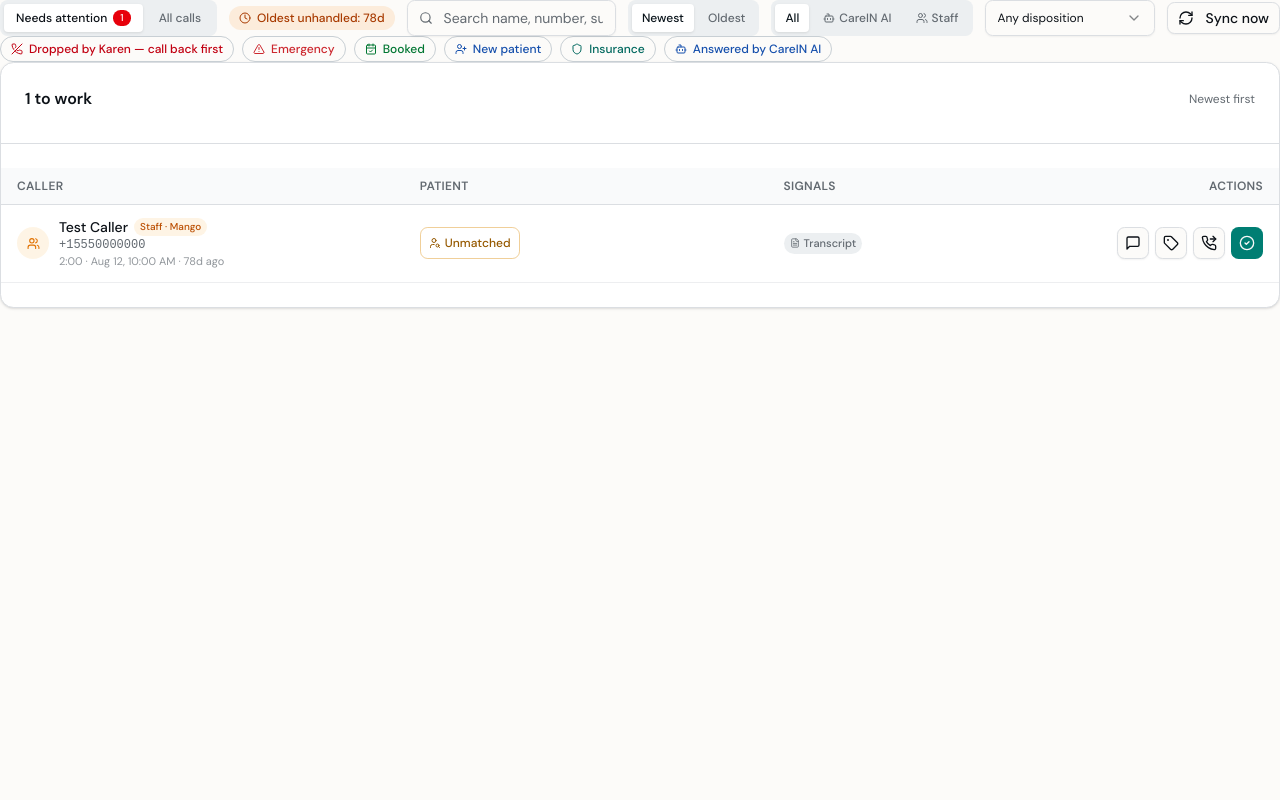
Test case: notes on a call › sends the text and shows the SERVER's stored note back
Click the button with test id "notes-action" at (1133, 243), box [1117,227,1149,259]
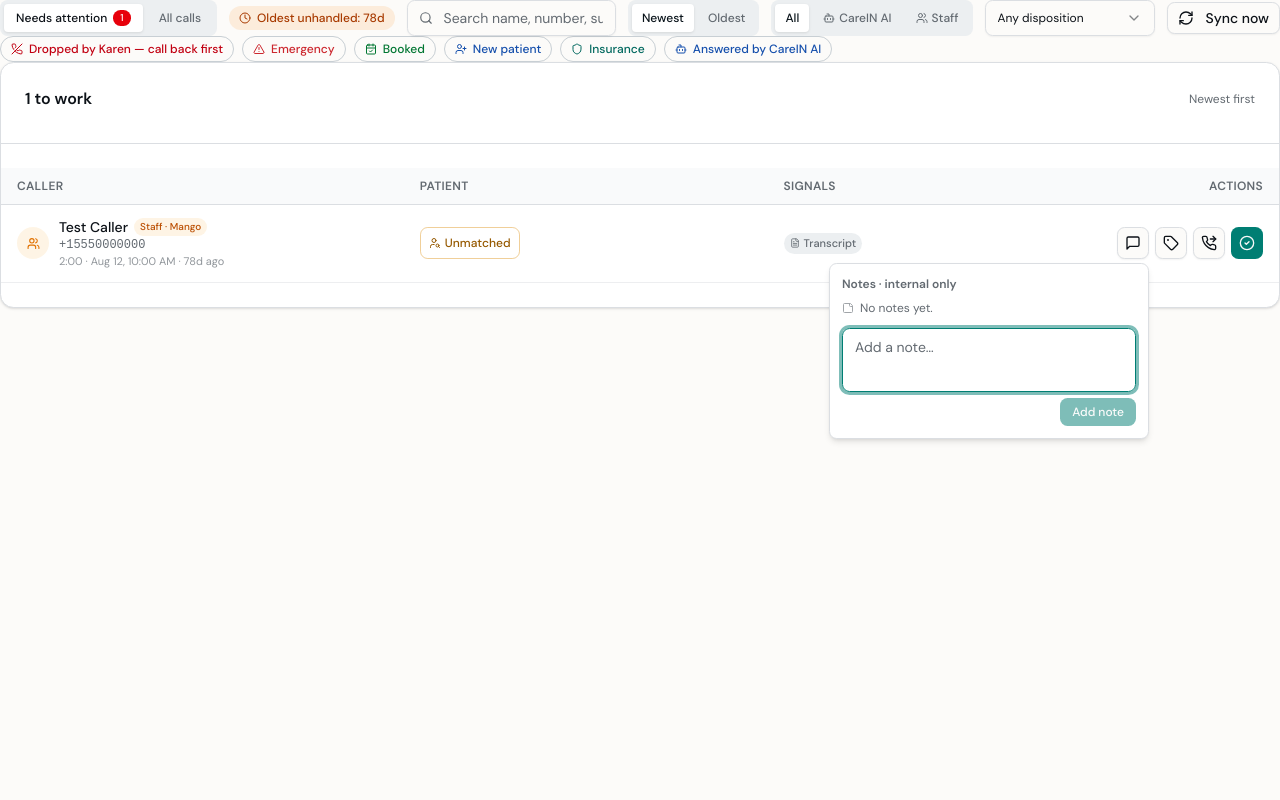
Type "  Pharmacy needs a callback  " into the text box labelled "Add a note" at (989, 360), box [842,328,1136,392]
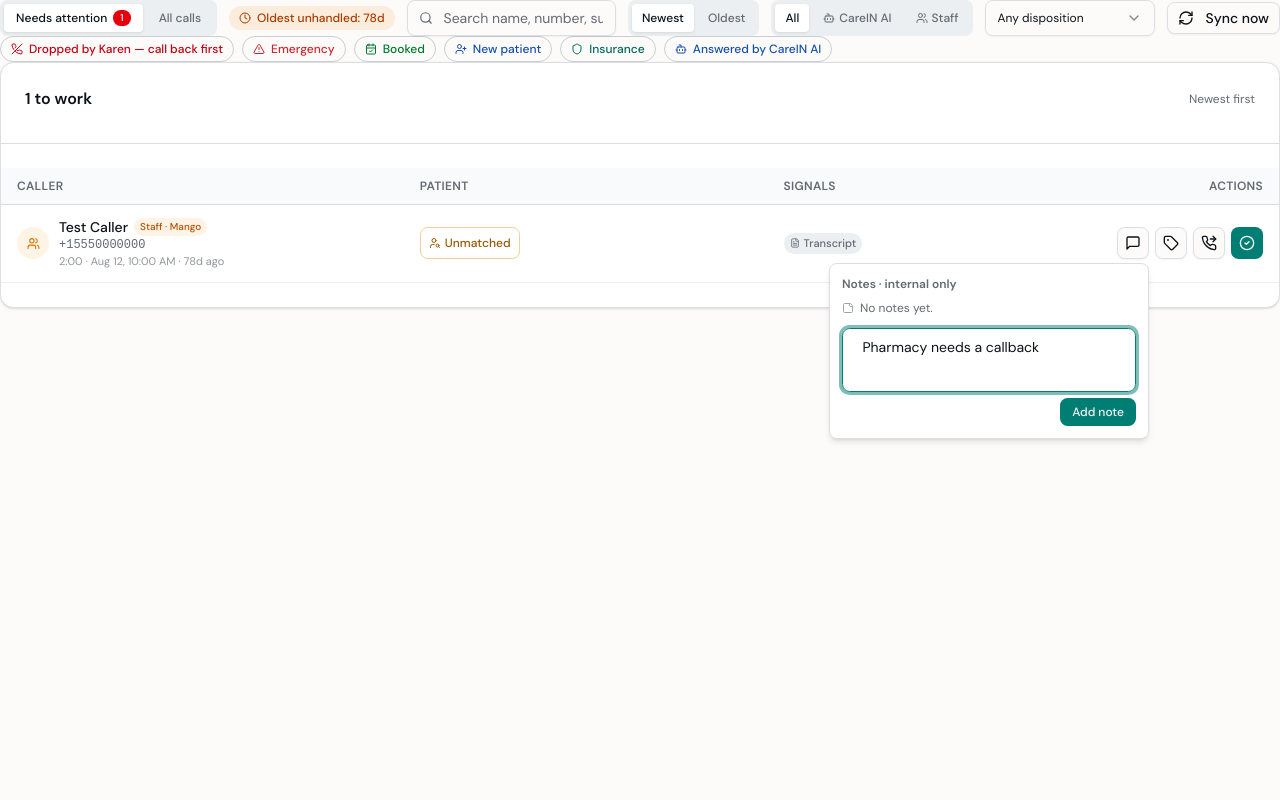
Click the button "Add note" at (1098, 412), box [1060,398,1136,426]
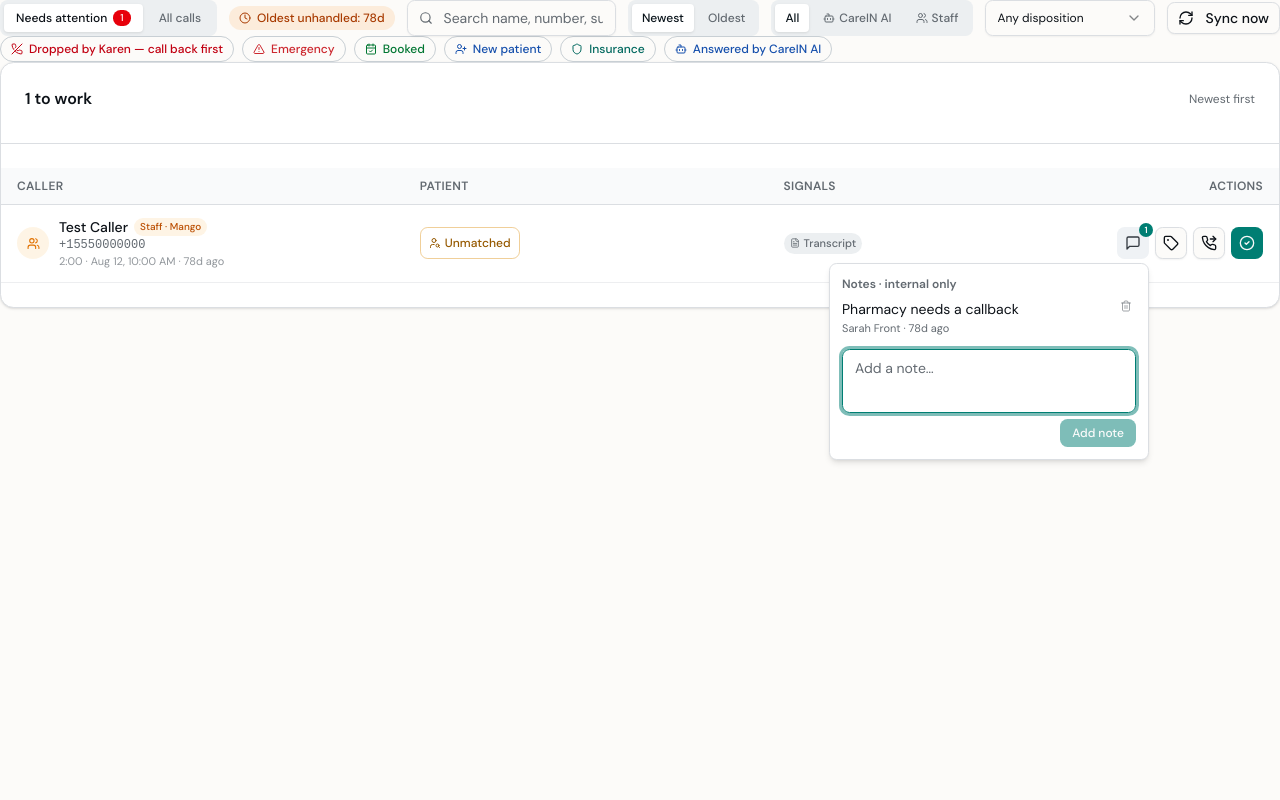
Expected: the text "Pharmacy needs a callback" is shown, [842,300,1019,319]
